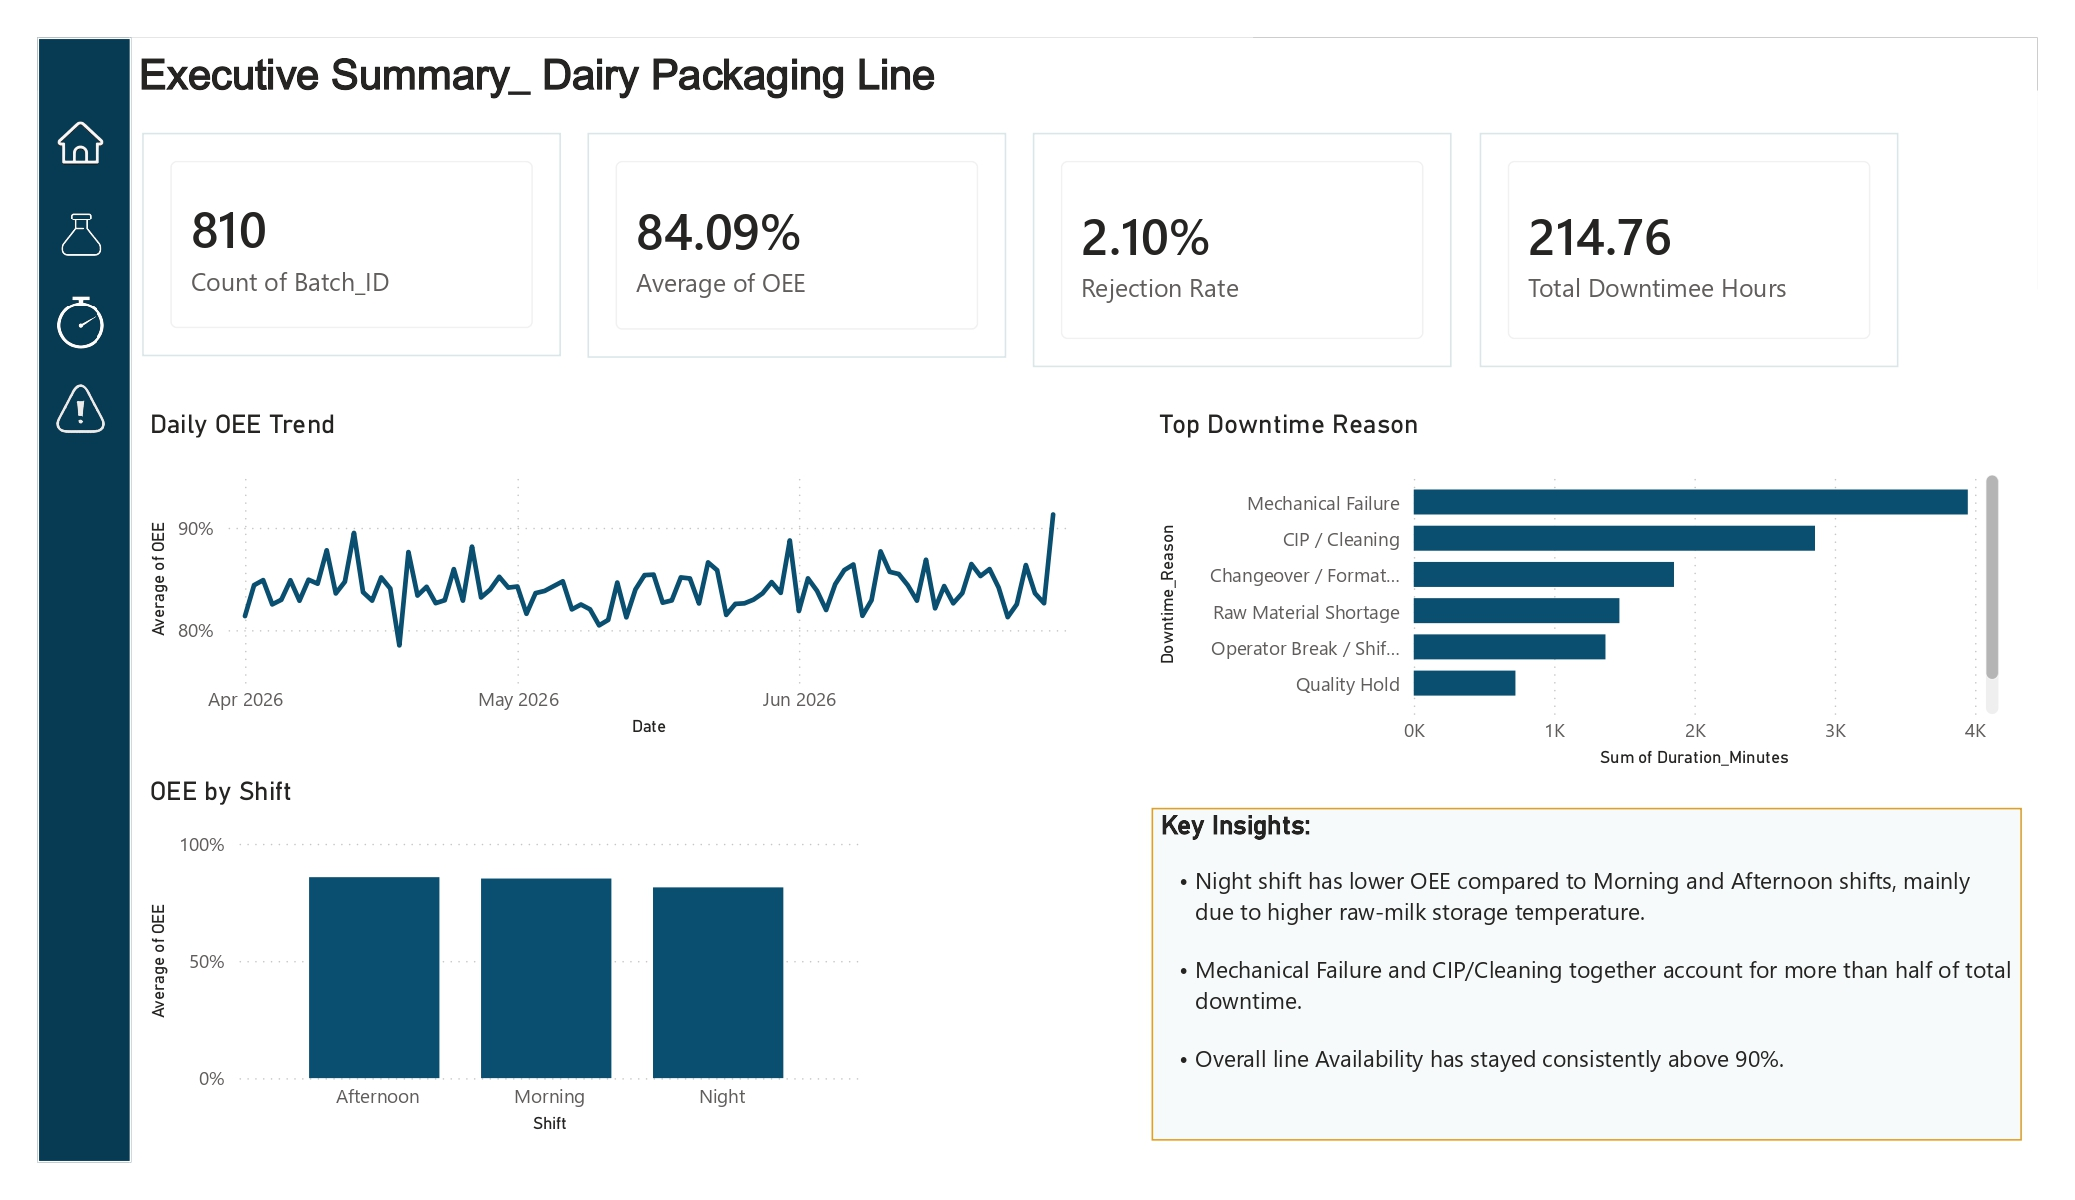

The page's visual inventory and layout, read from the dashboard file:
{"tool":"powerbi","page":{"name":"Executive Summary","canvas":[1280,720],"ordinal":0},"visuals":[{"type":"cardVisual","title":"Overall OEE","fields":{"Data":["Count(Fact_QC.Batch_ID)"]},"box":[67,61,267.6,142.7],"z":0},{"type":"cardVisual","title":"First Pass Yield","fields":{"Data":["Avg(Fact_Production.OEE)"]},"box":[352.2,61,267.6,143.8],"z":1000},{"type":"lineChart","title":"Daily OEE Trend","fields":{"Category":["Fact_Production.Date"],"Y":["Avg(Fact_Production.OEE)"]},"box":[67,237,611.8,215.1],"z":2000},{"type":"clusteredColumnChart","title":"OEE by Shift","fields":{"Category":["Dim_Shift.Shift"],"Y":["Avg(Fact_Production.OEE)"]},"box":[67,472,463.8,234],"z":3000},{"type":"clusteredBarChart","title":"Top Downtime Reason","fields":{"Category":["Fact_Downtime.Downtime_Reason"],"Y":["Sum(Fact_Downtime.Duration_Minutes)"]},"box":[713,237,546.7,235.1],"z":4000},{"type":"textbox","box":[60,0,717.8,50.1],"z":5000},{"type":"cardVisual","title":"Rejection Rate","fields":{"Data":["Fact_QC.Rejection Rate"]},"box":[637.4,61,268,150],"z":6000},{"type":"cardVisual","title":"Total Downtime","fields":{"Data":["Fact_Downtime.Total Downtimee Hours"]},"box":[923,61,267.6,150.1],"z":7000},{"type":"textbox","title":"Key Insights: ","box":[713,493,557,213],"z":8000},{"type":"shape","box":[0,0,60,720.2],"z":9000},{"type":"image","box":[10,50,35,35],"z":10000},{"type":"image","box":[8,105,40,40],"z":11000},{"type":"image","box":[10,220,35,35],"z":12000},{"type":"image","box":[7,162,40,40],"z":13000}]}

Visuals, with their boxes on the page's 1280x720 design canvas (x1, y1, x2, y2). These are canvas units, not pixel positions in the 2075x1200 screenshot, which may show the page scaled, cropped or inside an application window:
"Overall OEE" cardVisual: select_region(67, 61, 335, 204)
"First Pass Yield" cardVisual: select_region(352, 61, 620, 205)
"Daily OEE Trend" lineChart: select_region(67, 237, 679, 452)
"OEE by Shift" clusteredColumnChart: select_region(67, 472, 531, 706)
"Top Downtime Reason" clusteredBarChart: select_region(713, 237, 1260, 472)
textbox: select_region(60, 0, 778, 50)
"Rejection Rate" cardVisual: select_region(637, 61, 905, 211)
"Total Downtime" cardVisual: select_region(923, 61, 1191, 211)
"Key Insights: " textbox: select_region(713, 493, 1270, 706)
shape: select_region(0, 0, 60, 720)
image: select_region(10, 50, 45, 85)
image: select_region(8, 105, 48, 145)
image: select_region(10, 220, 45, 255)
image: select_region(7, 162, 47, 202)
